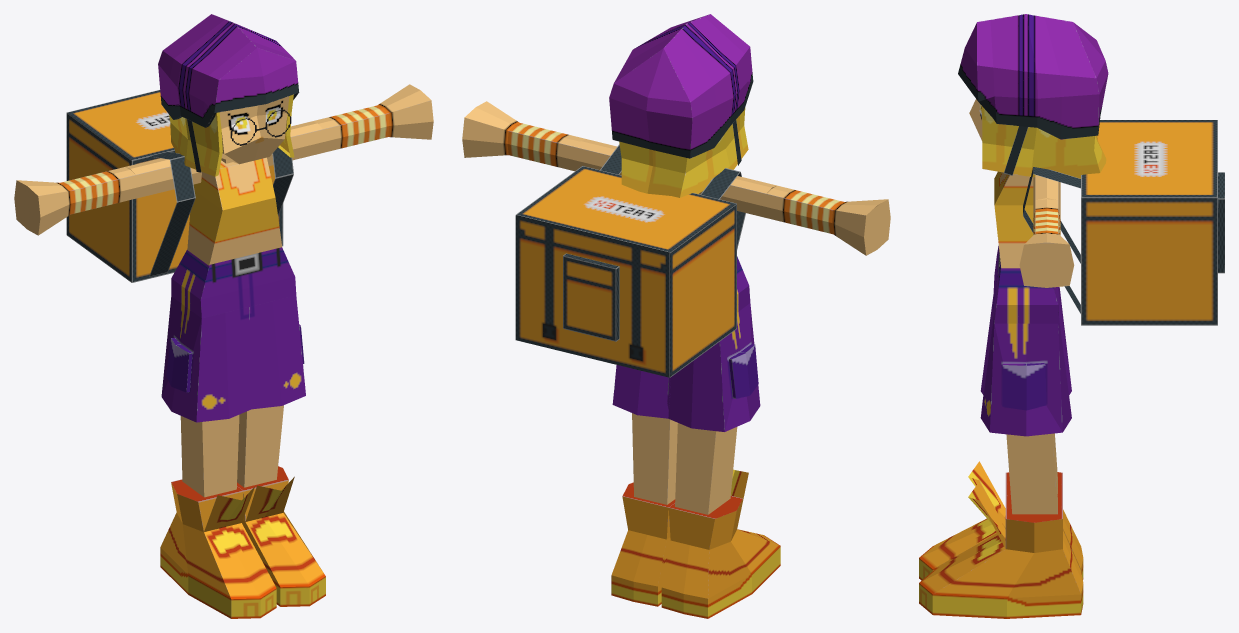
Rendered from crayonupgraded.fbx.
The picture shows the model from 3 angles, left to right: view 1: azimuth 30°, elevation 25°; view 2: azimuth 150°, elevation 25°; view 3: azimuth 270°, elevation 25°; orthographic projection. The views are drawn at different scales.
Parts seen in each view (by area): view 1: shoes, bag, helmet, right_leg, torso, legs, head, left_leg, rightarm, leftarm, mesh_selection_2, mesh_selection_1 (+4 smaller); view 2: bag, shoes, helmet, right_leg, head, rightarm, leftarm, mesh_selection_2, mesh_selection_1, left_leg, mesh_selection_3, mesh_selection (+1 smaller); view 3: bag, shoes, helmet, left_leg, head, mesh_selection_1, leftarm, torso, legs, plane_1, right_leg, mesh_selection (+1 smaller).
Boxes of the visible parts, x1=… form: shoes: x1=160, y1=466, x2=325, y2=618; bag: x1=66, y1=90, x2=283, y2=282; helmet: x1=158, y1=14, x2=299, y2=127; right_leg: x1=161, y1=296, x2=251, y2=422; torso: x1=187, y1=157, x2=282, y2=265; legs: x1=171, y1=247, x2=296, y2=318; head: x1=169, y1=94, x2=294, y2=176; left_leg: x1=249, y1=295, x2=305, y2=409; rightarm: x1=14, y1=167, x2=136, y2=235; leftarm: x1=312, y1=84, x2=433, y2=152; mesh_selection_2: x1=180, y1=415, x2=239, y2=497; mesh_selection_1: x1=237, y1=405, x2=283, y2=487; bag: x1=515, y1=166, x2=736, y2=377; shoes: x1=611, y1=469, x2=780, y2=618; helmet: x1=609, y1=14, x2=753, y2=158; right_leg: x1=667, y1=303, x2=760, y2=431; head: x1=619, y1=107, x2=748, y2=197; rightarm: x1=765, y1=185, x2=890, y2=255; leftarm: x1=462, y1=101, x2=585, y2=171; mesh_selection_2: x1=675, y1=423, x2=737, y2=514; mesh_selection_1: x1=632, y1=413, x2=677, y2=504; left_leg: x1=612, y1=365, x2=670, y2=418; mesh_selection_3: x1=699, y1=176, x2=776, y2=217; mesh_selection: x1=574, y1=139, x2=621, y2=175; bag: x1=1081, y1=120, x2=1224, y2=325; shoes: x1=919, y1=461, x2=1083, y2=618; helmet: x1=958, y1=14, x2=1108, y2=139; left_leg: x1=980, y1=301, x2=1071, y2=436; head: x1=969, y1=99, x2=1106, y2=178; mesh_selection_1: x1=1006, y1=433, x2=1057, y2=514; leftarm: x1=1019, y1=199, x2=1074, y2=287; torso: x1=994, y1=171, x2=1033, y2=268; legs: x1=994, y1=246, x2=1058, y2=323; plane_1: x1=1023, y1=167, x2=1080, y2=313; right_leg: x1=980, y1=281, x2=1071, y2=395; mesh_selection: x1=1033, y1=175, x2=1060, y2=211.
Bounding box in the file's own units: 130 × 174 × 83.75.
1 material, 1 textured.
